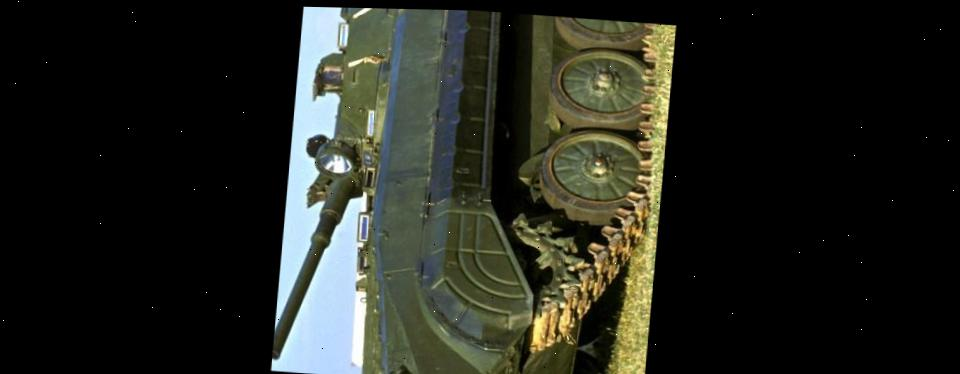tank: (269, 6, 648, 374)
